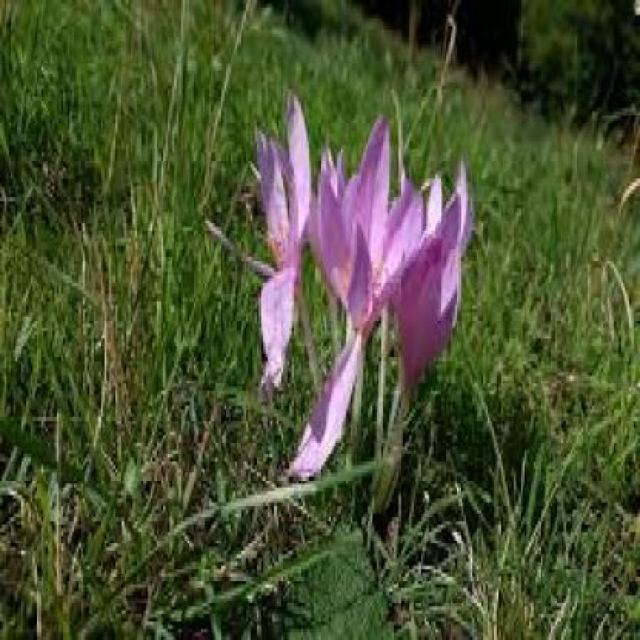Flower: (219, 94, 319, 388), (306, 113, 425, 339), (383, 157, 479, 389)
